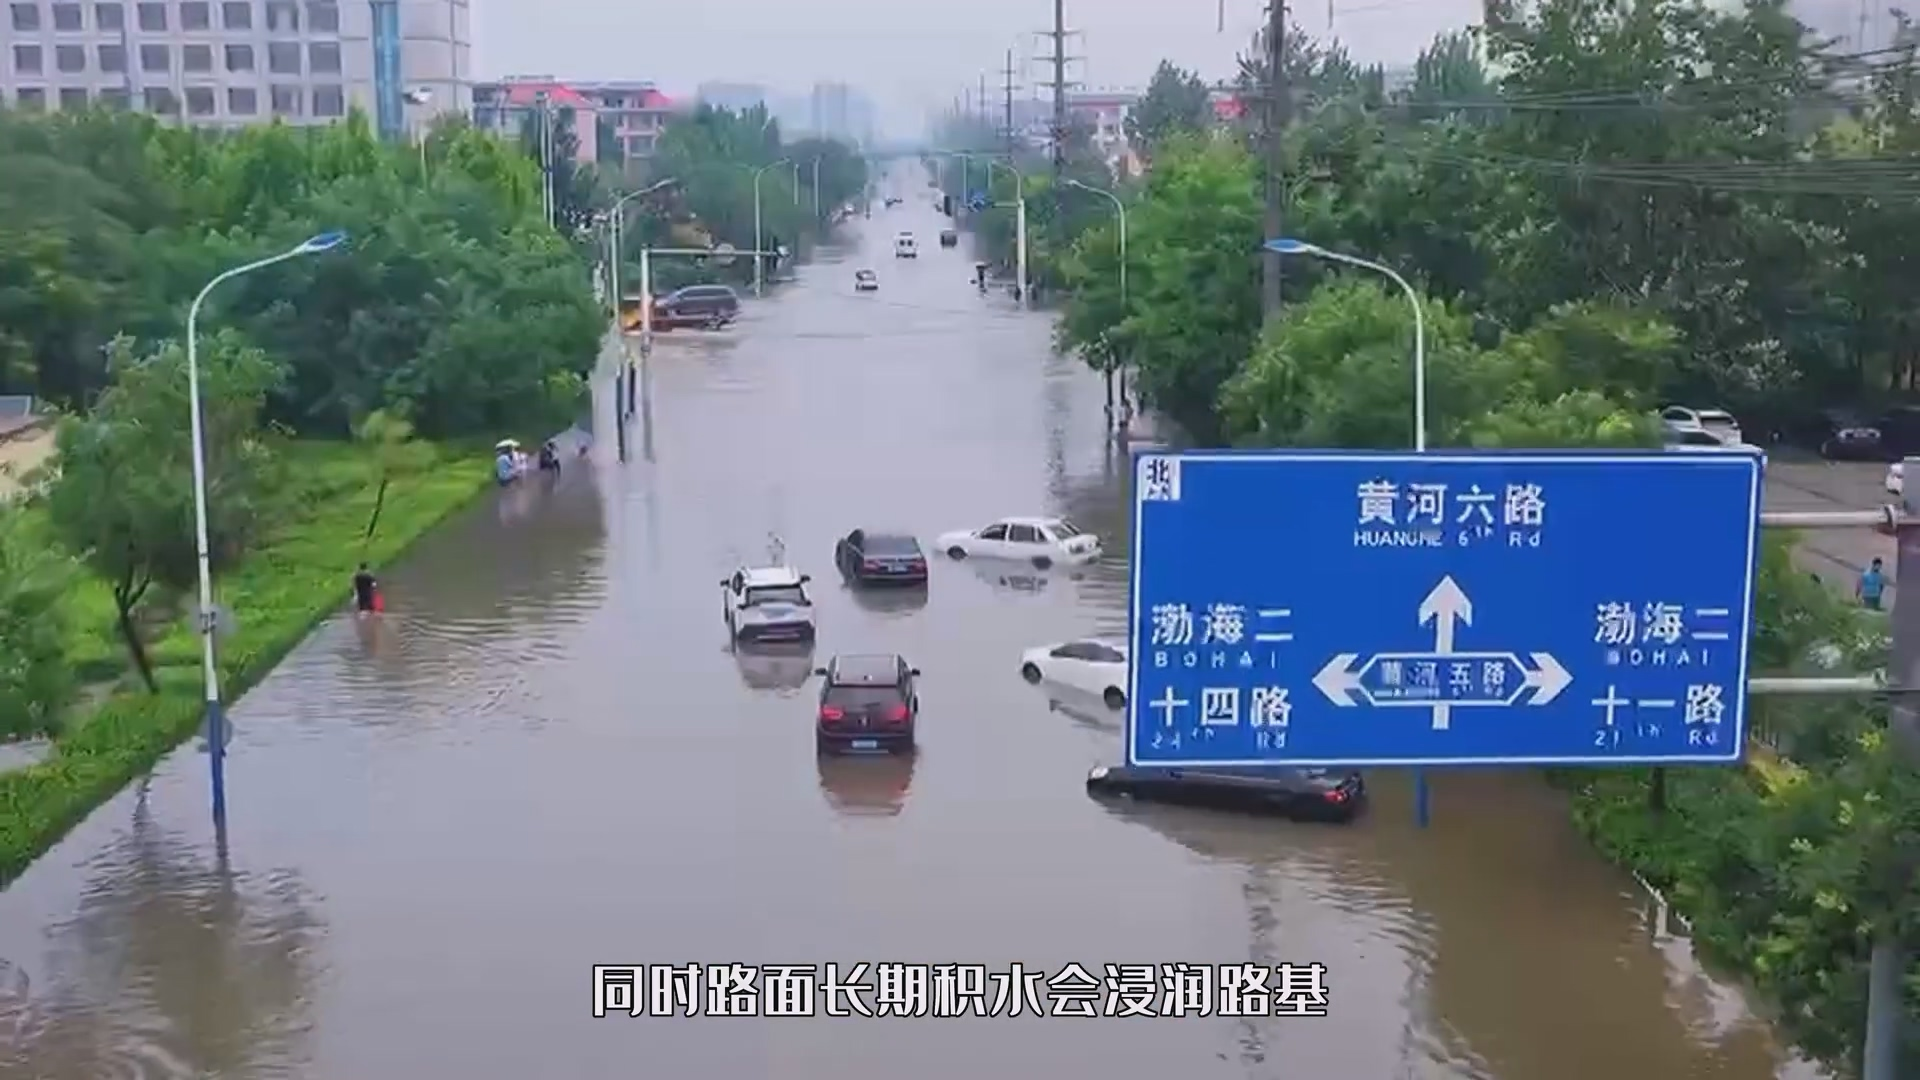puddle: (112, 773, 1630, 1080), (430, 349, 1125, 903)
